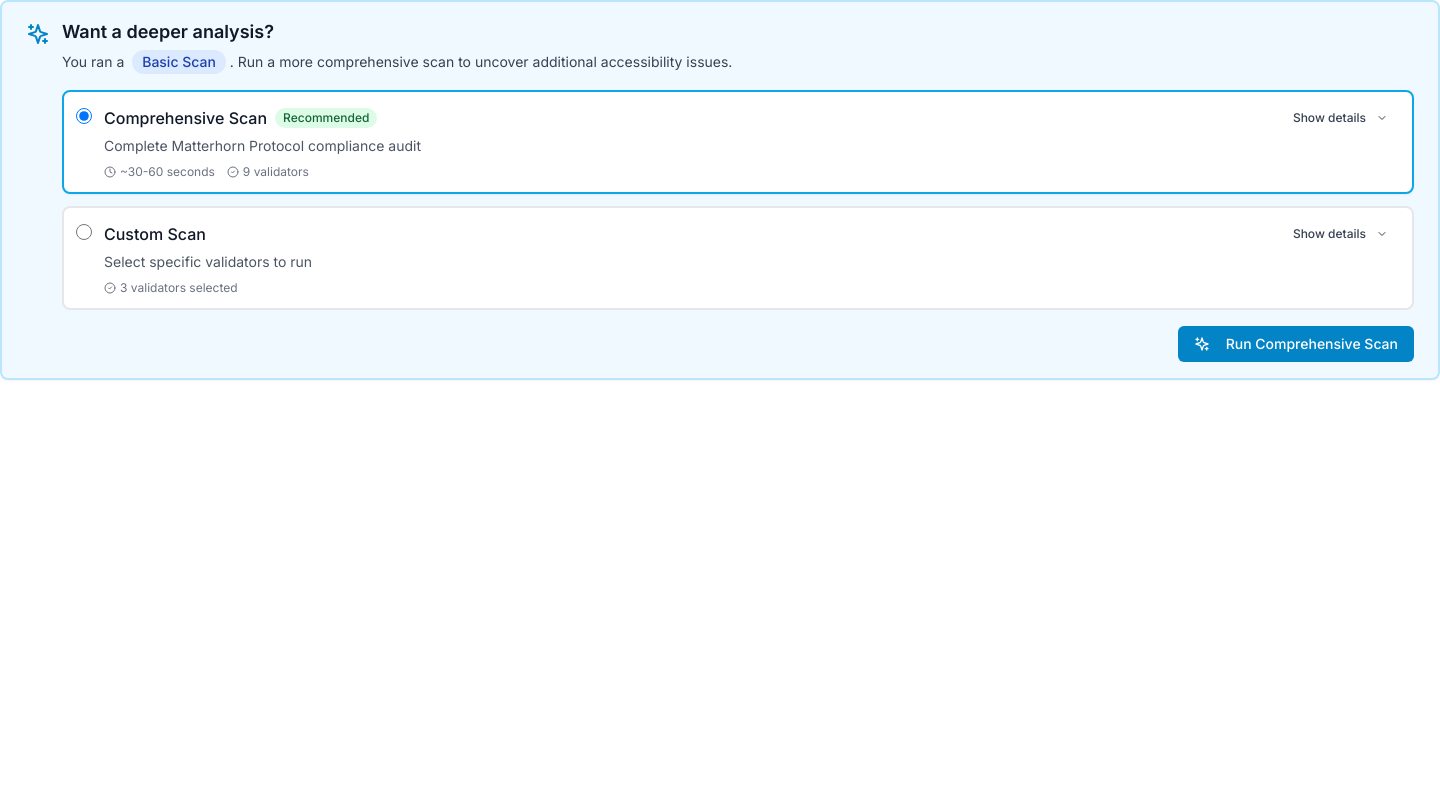
Test case: ScanLevelBanner › expands custom details and shows validator options
This screenshot has width=1440, height=810.
Note: Switch to custom (this auto-expands the custom details)
Click the radio button named "custom".
click(84, 232)  # box [76, 224, 92, 240]
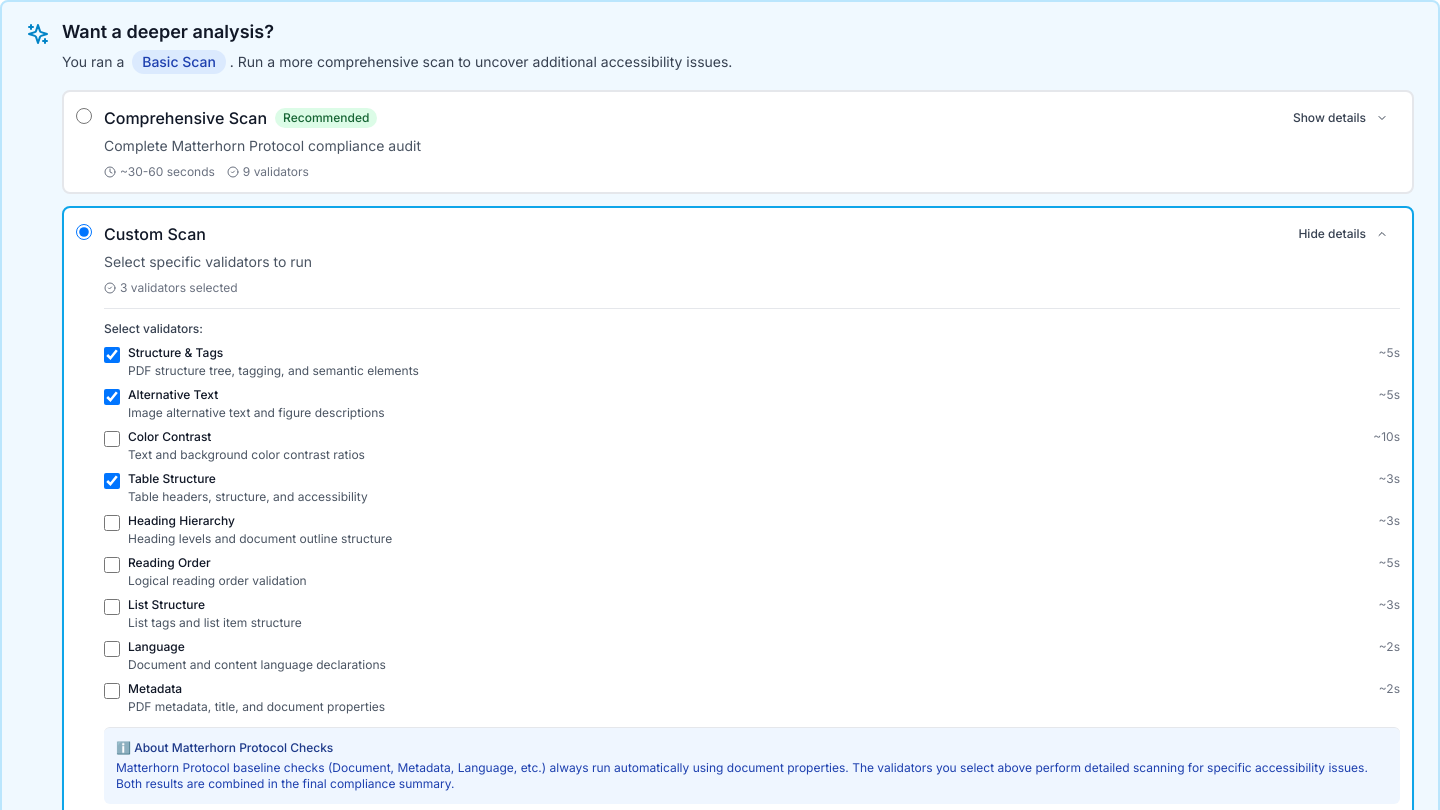
Now the text "Structure & Tags" is shown, box [128, 345, 223, 361]
Now the text "Alternative Text" is shown, box [128, 387, 218, 403]
Now the text "Color Contrast" is shown, box [128, 429, 212, 445]
